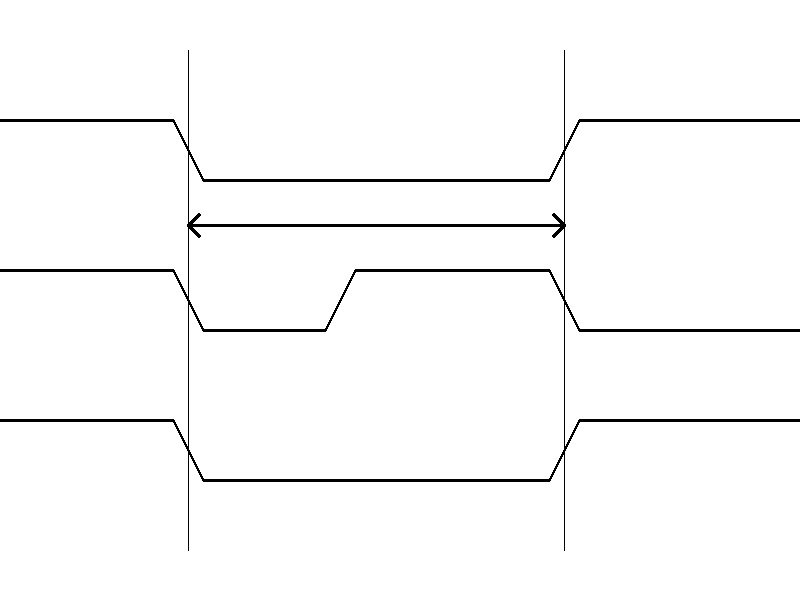double_arrow: (188, 210, 564, 240)
